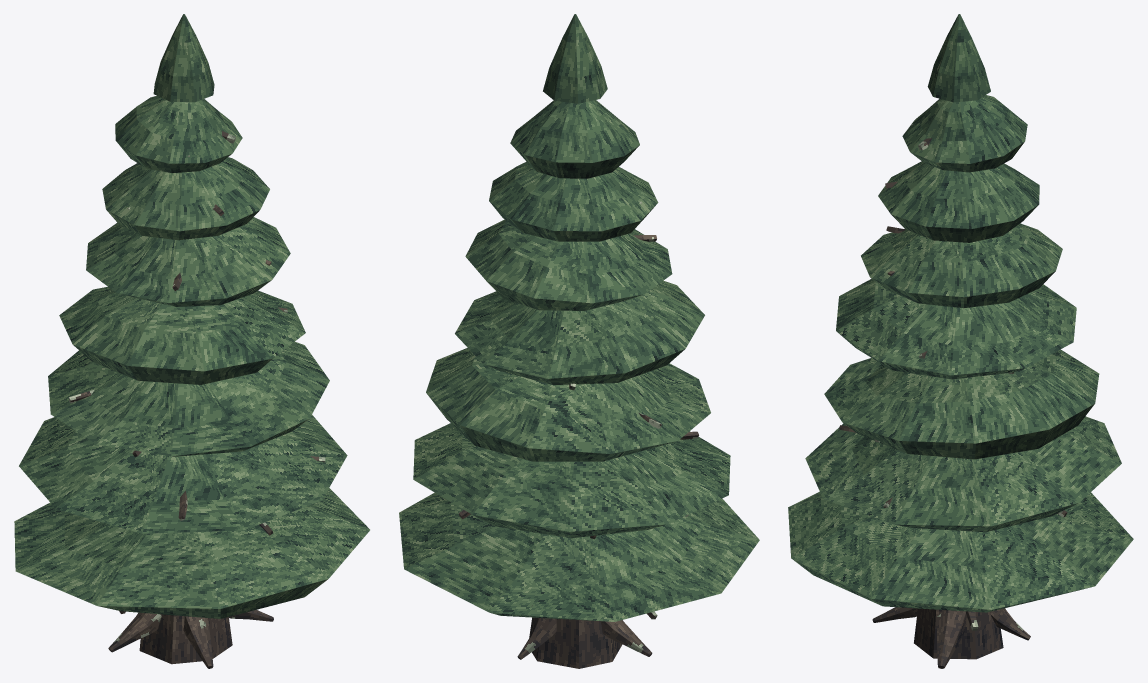
File: pine_a.glb
3 renders of one model, left to right at view 1: azimuth 30°, elevation 25°; view 2: azimuth 150°, elevation 25°; view 3: azimuth 270°, elevation 25°, orthographic.
Parts seen in each view (by area): view 1: crown_13, crown_21, crown_29, crown_37, crown_43, crown_49, crown_55, crown_56, trunk_1, root_4, root_5; view 2: crown_13, crown_21, crown_29, crown_37, crown_43, crown_49, crown_55, crown_56, trunk_1, root_5, root_2; view 3: crown_13, crown_21, crown_29, crown_37, crown_43, crown_49, crown_55, crown_56, trunk_1, root_3, root_2.
Part boxes in pixels (x1,y1,x2,y2): crown_13: [14, 488, 369, 618]; crown_21: [19, 415, 347, 533]; crown_29: [48, 341, 329, 456]; crown_37: [59, 287, 305, 384]; crown_43: [86, 217, 290, 306]; crown_49: [102, 157, 269, 240]; crown_55: [115, 96, 242, 173]; crown_56: [153, 14, 214, 102]; trunk_1: [139, 614, 232, 664]; root_4: [183, 616, 213, 668]; root_5: [108, 612, 161, 652]; crown_13: [399, 492, 759, 621]; crown_21: [413, 423, 730, 538]; crown_29: [426, 347, 710, 461]; crown_37: [455, 280, 704, 384]; crown_43: [465, 219, 672, 310]; crown_49: [489, 162, 658, 241]; crown_55: [510, 100, 639, 178]; crown_56: [543, 14, 607, 103]; trunk_1: [529, 617, 622, 668]; root_5: [600, 620, 652, 656]; root_2: [517, 618, 556, 659]; crown_13: [788, 491, 1133, 612]; crown_21: [805, 416, 1121, 532]; crown_29: [824, 349, 1099, 459]; crown_37: [836, 278, 1076, 379]; crown_43: [861, 223, 1062, 308]; crown_49: [878, 161, 1039, 242]; crown_55: [902, 95, 1027, 172]; crown_56: [927, 14, 990, 102]; trunk_1: [914, 608, 1003, 659]; root_3: [937, 610, 966, 668]; root_2: [990, 608, 1030, 640].
Bounding box in the file's own units: 57.14 × 109 × 54.52.
1 material, 1 textured.
